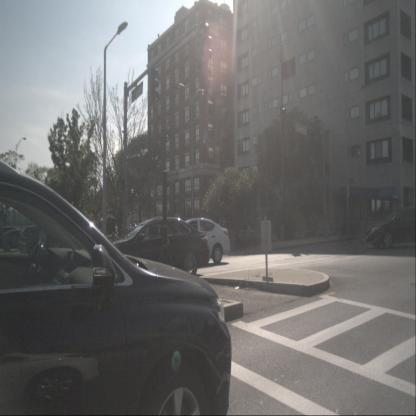vehicle-car: (0, 158, 232, 416), (108, 216, 210, 275), (172, 215, 230, 265), (365, 206, 415, 249)
